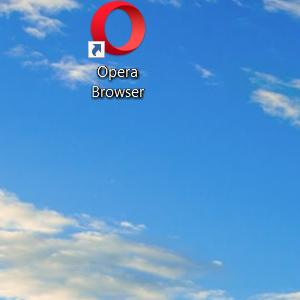opera: (87, 1, 145, 58)
